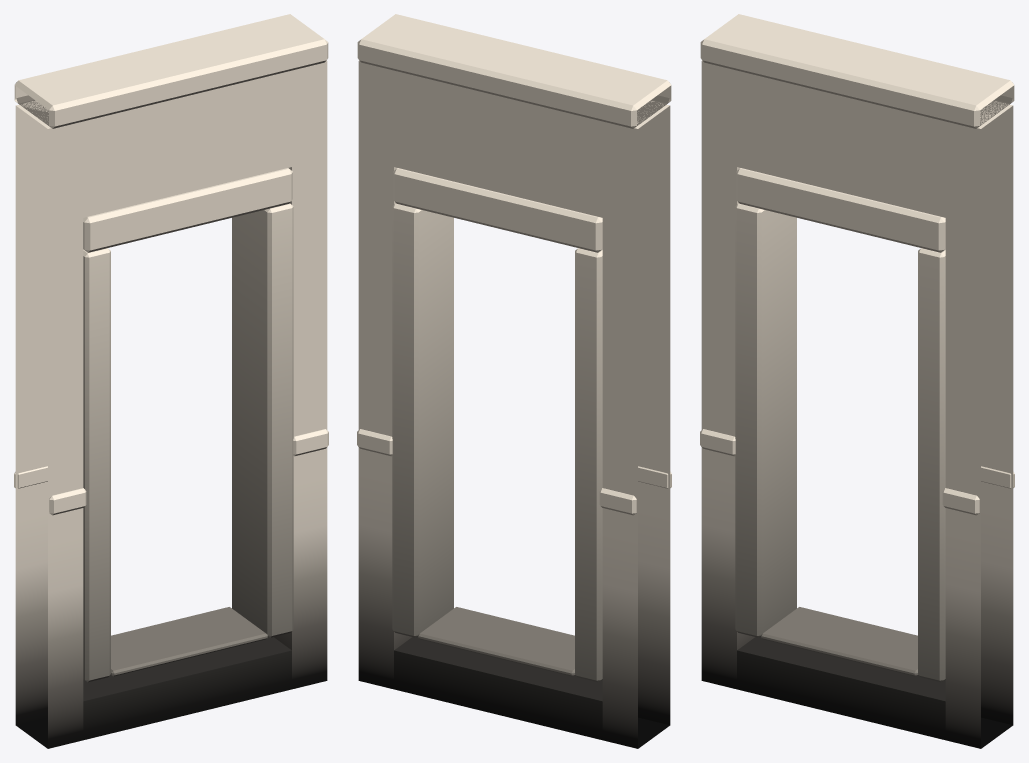
Rendered from SM_VKI_Wall_Board_Door_150_Full.fbx.
3 views of the same model, side by side, from view 1: azimuth 30°, elevation 25°; view 2: azimuth 150°, elevation 25°; view 3: azimuth 330°, elevation 25° (orthographic).
Parts seen in each view (by area): view 1: SM_VKI_Wall_Board_Door_150_Full.001; view 2: SM_VKI_Wall_Board_Door_150_Full.001; view 3: SM_VKI_Wall_Board_Door_150_Full.001.
Boxes of the visible parts, x1,y1,x2,y2 form: SM_VKI_Wall_Board_Door_150_Full.001: [14, 14, 328, 748]; SM_VKI_Wall_Board_Door_150_Full.001: [357, 14, 671, 748]; SM_VKI_Wall_Board_Door_150_Full.001: [700, 14, 1014, 748].
Size of the model in its own units: 1.5 by 3.3 by 0.36.
